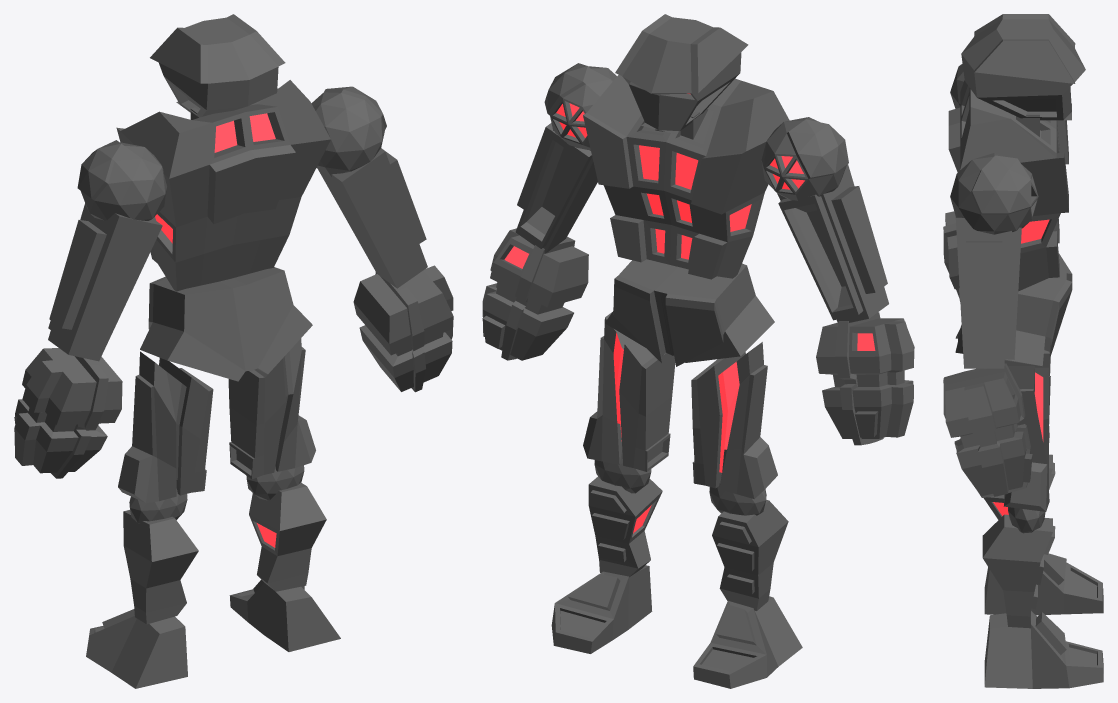
File: Enemy3Cyber.fbx
3 views of the same model, side by side, from view 1: azimuth 30°, elevation 25°; view 2: azimuth 150°, elevation 25°; view 3: azimuth 270°, elevation 25° (orthographic).
Parts seen in each view (by area): view 1: Cube.044, Cube.046, Cube.040, Cube.045, Cube.043, Cube.041, Cube.042, Icosphere.009, Cube.049, Icosphere.008; view 2: Cube.044, Cube.046, Cube.040, Cube.045, Cube.043, Cube.042, Cube.041, Cube.049, Icosphere.009, Icosphere.008; view 3: Cube.042, Cube.044, Cube.046, Cube.049, Cube.045, Icosphere.009, Cube.041, Cube.040, Cube.043, Icosphere.008, Cube.047.
Boxes of the visible parts, x1,y1,x2,y2 form: Cube.044: [116, 80, 330, 291]; Cube.046: [14, 265, 453, 478]; Cube.040: [118, 338, 315, 502]; Cube.045: [48, 148, 427, 361]; Cube.043: [140, 267, 312, 381]; Cube.041: [123, 482, 326, 624]; Cube.042: [86, 579, 340, 688]; Icosphere.009: [77, 86, 386, 220]; Cube.049: [150, 14, 285, 117]; Icosphere.008: [129, 465, 304, 523]; Cube.044: [583, 75, 789, 279]; Cube.046: [482, 228, 914, 445]; Cube.040: [583, 312, 777, 499]; Cube.045: [515, 123, 888, 322]; Cube.043: [605, 259, 774, 366]; Cube.042: [551, 565, 802, 688]; Cube.041: [588, 476, 788, 610]; Cube.049: [615, 14, 748, 134]; Icosphere.009: [544, 63, 848, 200]; Icosphere.008: [594, 460, 766, 515]; Cube.042: [984, 553, 1103, 688]; Cube.044: [948, 80, 1068, 291]; Cube.046: [943, 211, 1032, 497]; Cube.049: [961, 14, 1085, 120]; Cube.045: [955, 217, 1021, 368]; Icosphere.009: [950, 63, 1038, 234]; Cube.041: [982, 454, 1055, 628]; Cube.040: [1003, 350, 1050, 511]; Cube.043: [955, 253, 1072, 366]; Icosphere.008: [1008, 507, 1045, 533]; Cube.047: [1016, 113, 1039, 136].
Size of the model in its own units: 2.92 by 4.05 by 0.9595.
